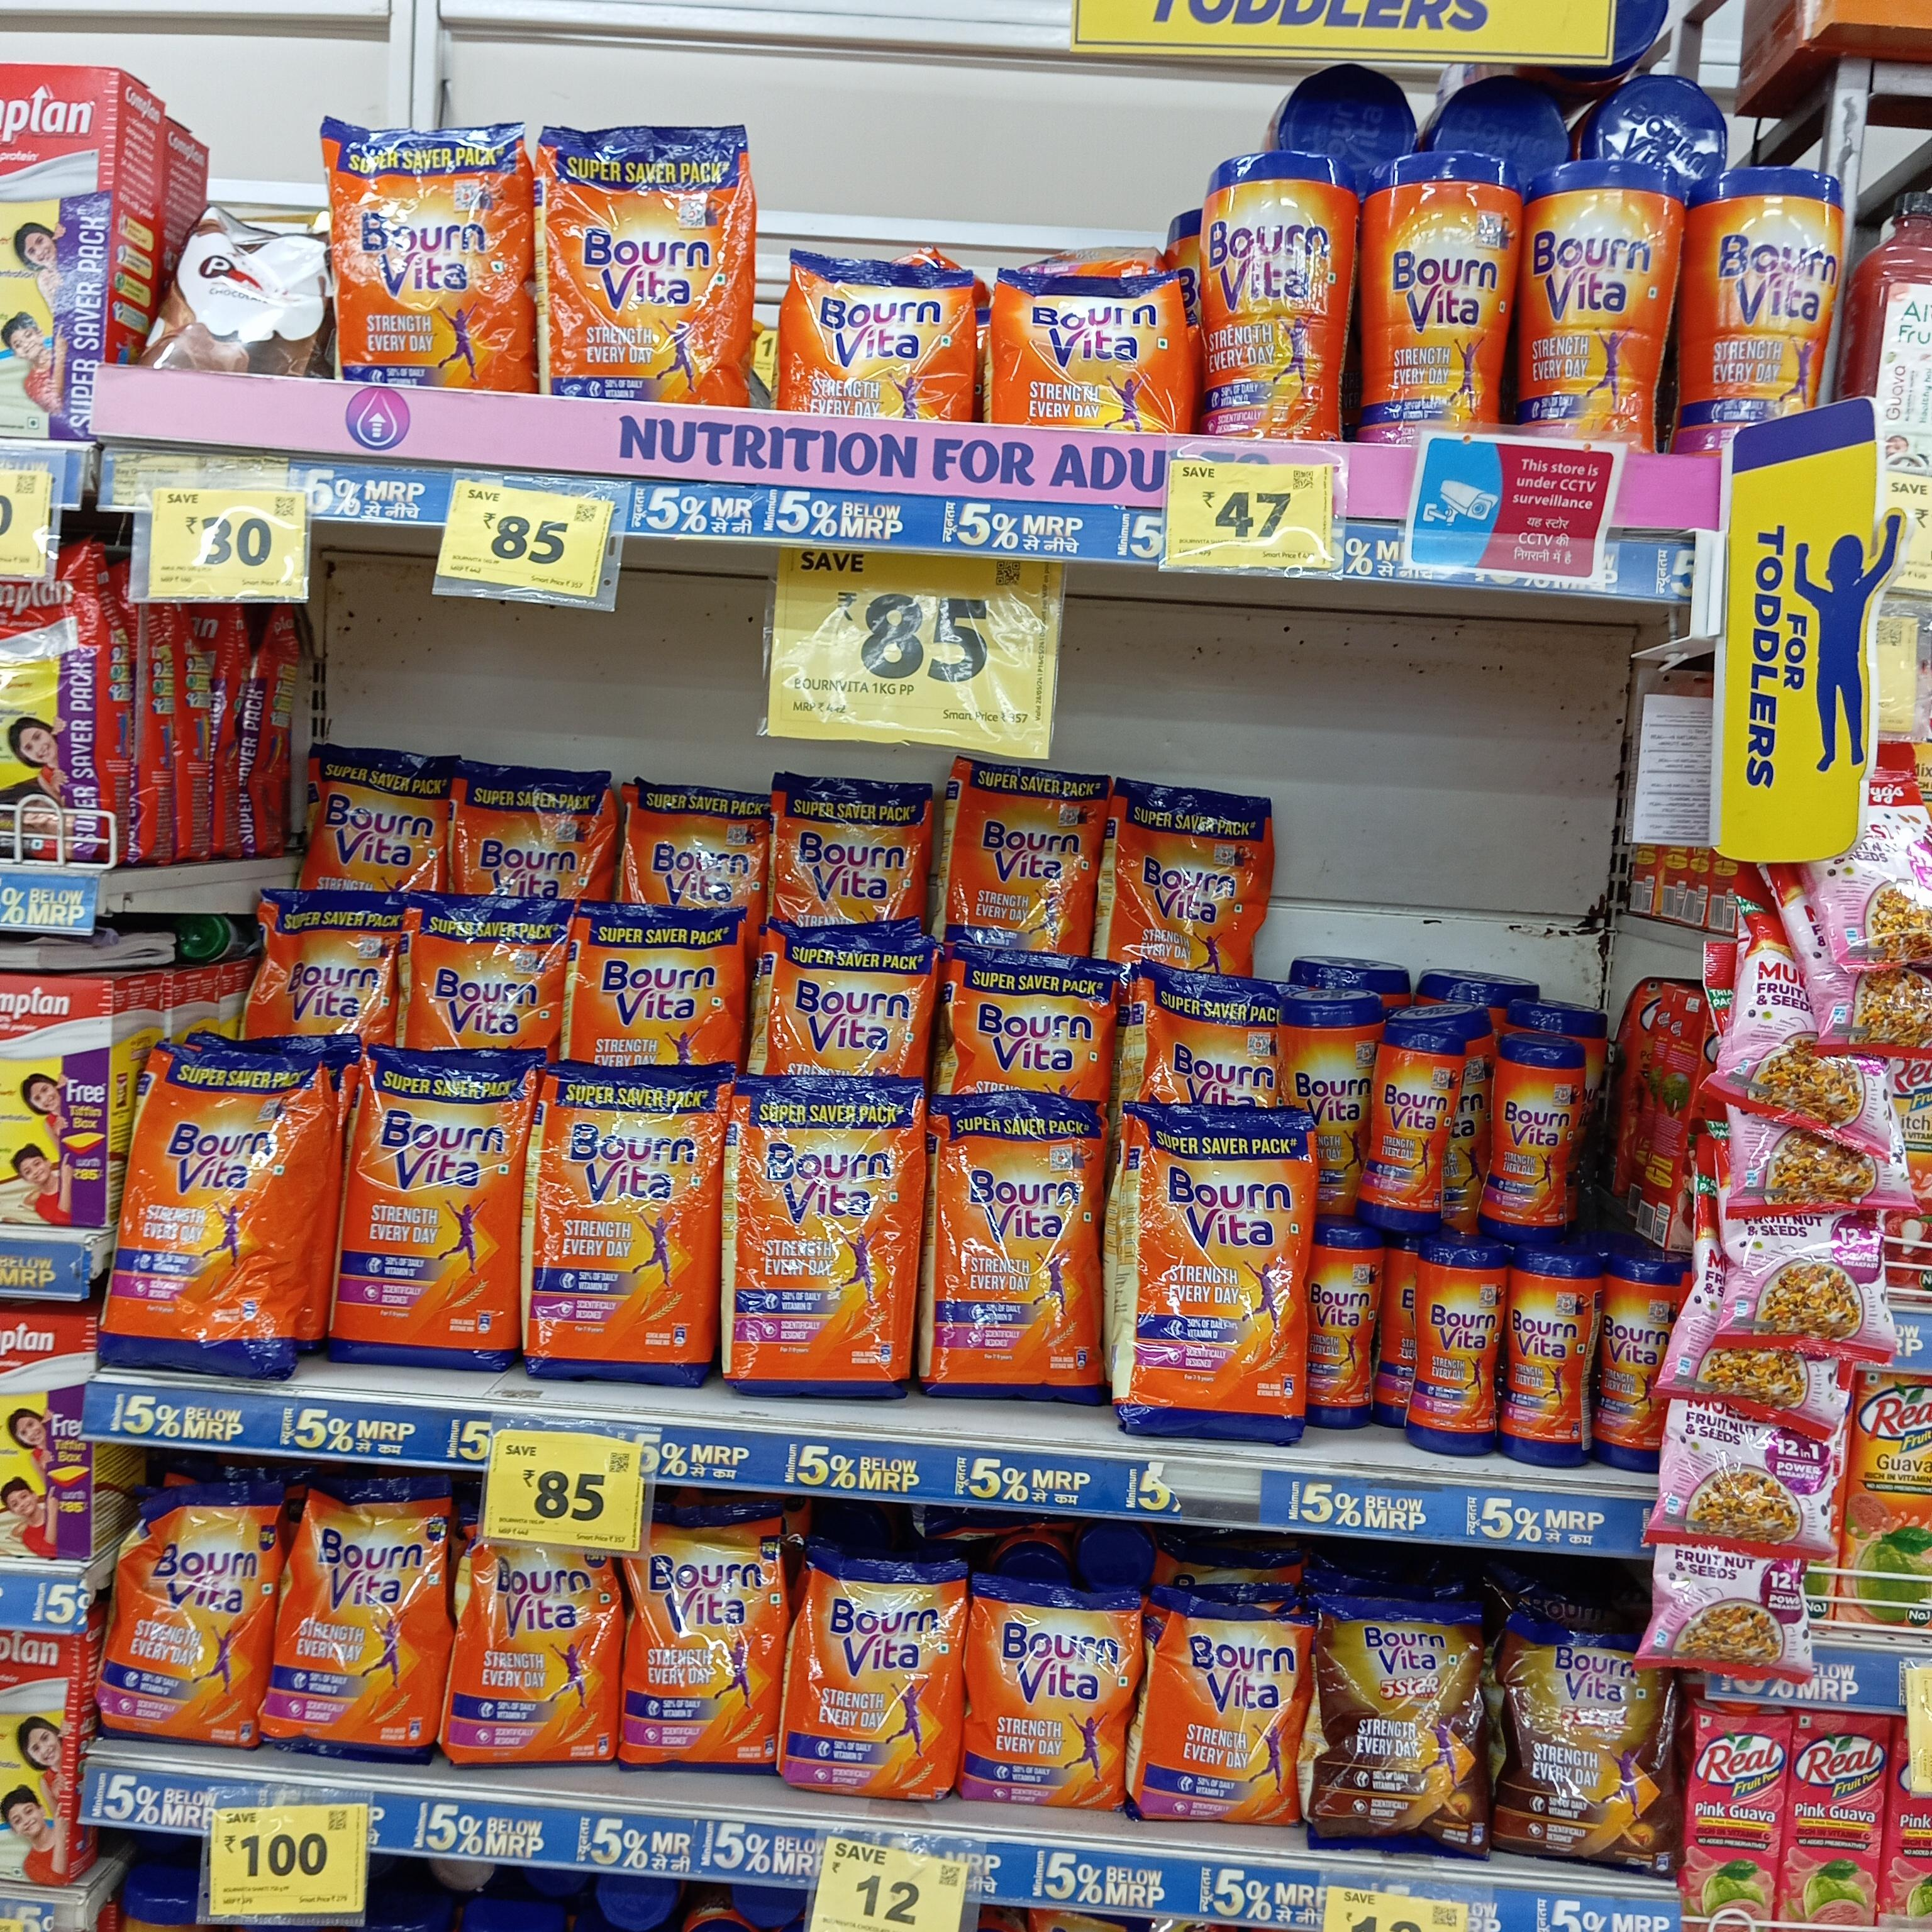BOURN_VITA_1_KG_JAR: (1198, 147, 1359, 433), (1522, 157, 1661, 442), (1368, 152, 1500, 428), (1684, 170, 1824, 407)
BOURN_VITA_1_KG_POUCH: (117, 1047, 306, 1378), (1127, 1106, 1307, 1445), (720, 1076, 906, 1394), (529, 1063, 713, 1384), (540, 131, 750, 402), (925, 1097, 1104, 1401), (345, 1051, 513, 1373), (329, 119, 533, 382), (943, 759, 1093, 948), (1111, 782, 1267, 957), (773, 773, 924, 916), (301, 741, 446, 888), (455, 759, 607, 893), (623, 777, 766, 901)
BOURN_VITA_500_G_JAR: (1408, 1240, 1500, 1458), (1507, 1253, 1592, 1468), (1484, 1040, 1575, 1230), (1369, 1023, 1444, 1231)
BOURN_VITA_500_G_POUCH: (786, 1550, 954, 1801), (1132, 1583, 1290, 1828), (970, 1575, 1122, 1808), (987, 269, 1191, 428), (782, 258, 977, 419)
BOURN_VITA_750_G_POUCH: (278, 1483, 442, 1762), (103, 1491, 260, 1748), (451, 1537, 616, 1767), (628, 1557, 778, 1775)
BOURN_VITA_FIVE_STAR_MAGIC_500_G_POUCH: (1491, 1612, 1672, 1874), (1307, 1599, 1484, 1854)
